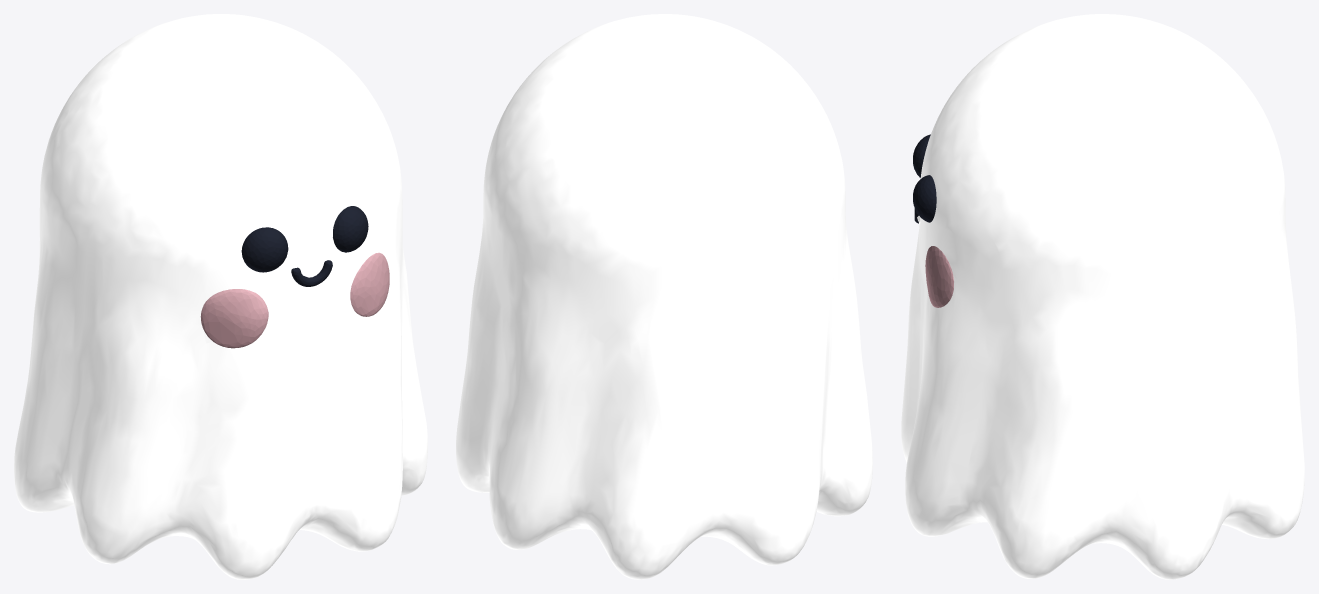
File: ghost.glb
3 views of the same model, side by side, from view 1: azimuth 30°, elevation 25°; view 2: azimuth 150°, elevation 25°; view 3: azimuth 270°, elevation 25° (orthographic).
Visible parts, largest first — view 1: uploads_files_5315176_ma; view 2: uploads_files_5315176_ma; view 3: uploads_files_5315176_ma.
Boxes of the visible parts, box(x1,y1,x2,y2) form: uploads_files_5315176_ma: box(14, 14, 427, 579); uploads_files_5315176_ma: box(456, 14, 872, 579); uploads_files_5315176_ma: box(901, 14, 1304, 579).
Bounding box in the file's own units: 15.37 × 20 × 15.39.
